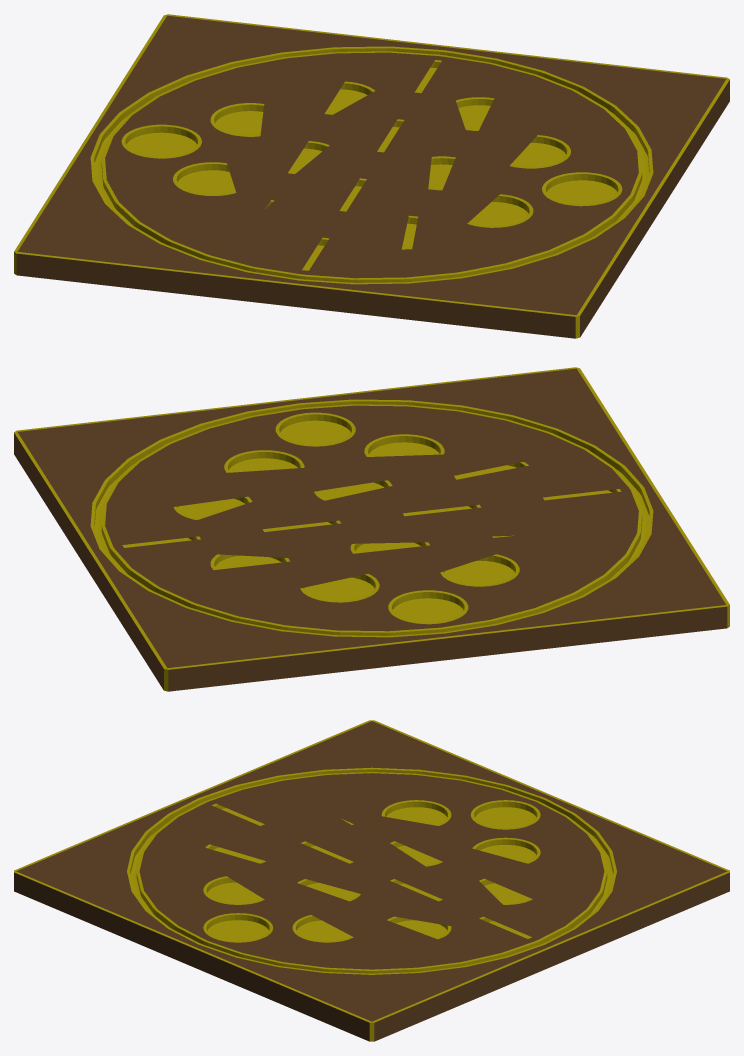
File: quarto_game_board.fbx
The picture shows the model from 3 angles, top to bottom: view 1: azimuth 30°, elevation 25°; view 2: azimuth 150°, elevation 25°; view 3: azimuth 270°, elevation 25°; orthographic projection. The views are drawn at different scales.
Visible parts, largest first — view 1: game_board; view 2: game_board; view 3: game_board.
Boxes of the visible parts, box(x1,y1,x2,y2) form: game_board: box(14, 14, 729, 338); game_board: box(14, 367, 729, 691); game_board: box(14, 720, 729, 1041).
Bounding box in the file's own units: 3373 × 100 × 3373.
